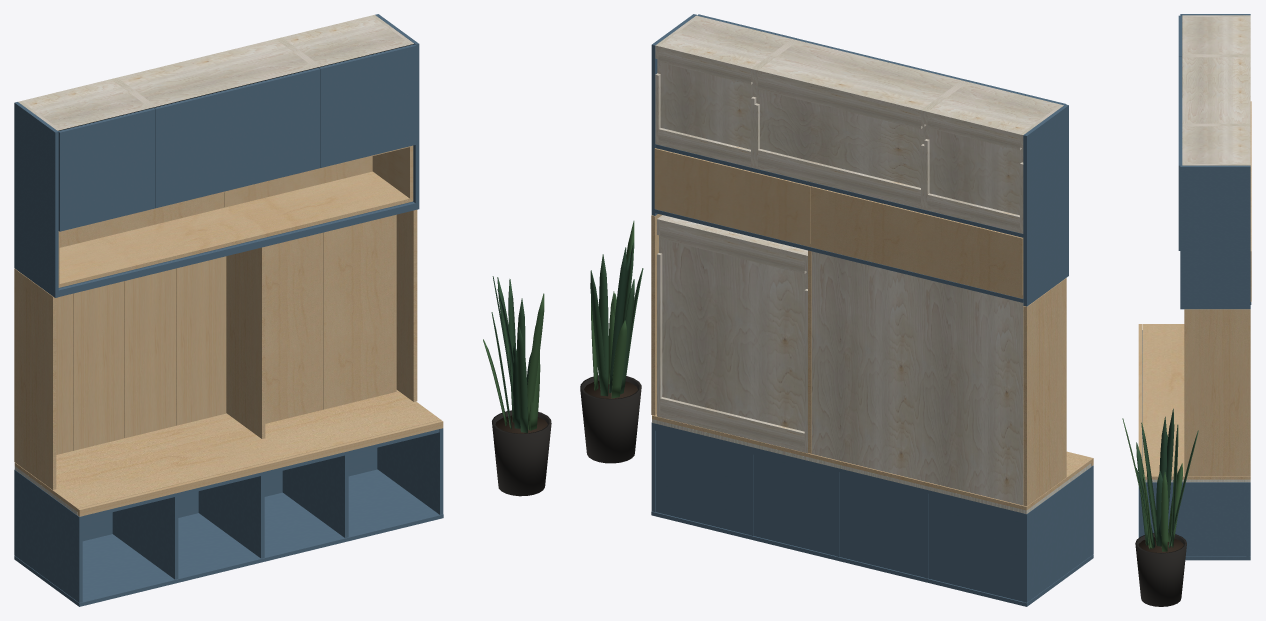
The model's file is mudroom.glb.
3 views of the same model, side by side, from view 1: azimuth 30°, elevation 25°; view 2: azimuth 150°, elevation 25°; view 3: azimuth 270°, elevation 25° (orthographic). The views are drawn at different scales.
Parts seen in each view (by area): view 1: mudroom.001, mv_mudroom_004, mv_mudroom_000, mv_mudroom_001, mv_mudroom_003, mv_mudroom_002; view 2: mudroom.001; view 3: mudroom.001, mv_mudroom_002, mv_mudroom_004.
Boxes of the visible parts, bbox=[...] form: mudroom.001: bbox=[14, 14, 551, 606]; mv_mudroom_004: bbox=[154, 68, 320, 207]; mv_mudroom_000: bbox=[323, 214, 396, 409]; mv_mudroom_001: bbox=[265, 232, 323, 423]; mv_mudroom_003: bbox=[58, 108, 155, 231]; mv_mudroom_002: bbox=[319, 44, 416, 167]; mudroom.001: bbox=[580, 14, 1093, 606]; mudroom.001: bbox=[1122, 14, 1251, 606]; mv_mudroom_002: bbox=[1178, 125, 1181, 250]; mv_mudroom_004: bbox=[1178, 56, 1181, 125].
Bounding box in the file's own units: 2.67 × 2.42 × 0.7207.
12 materials, 7 textured.
